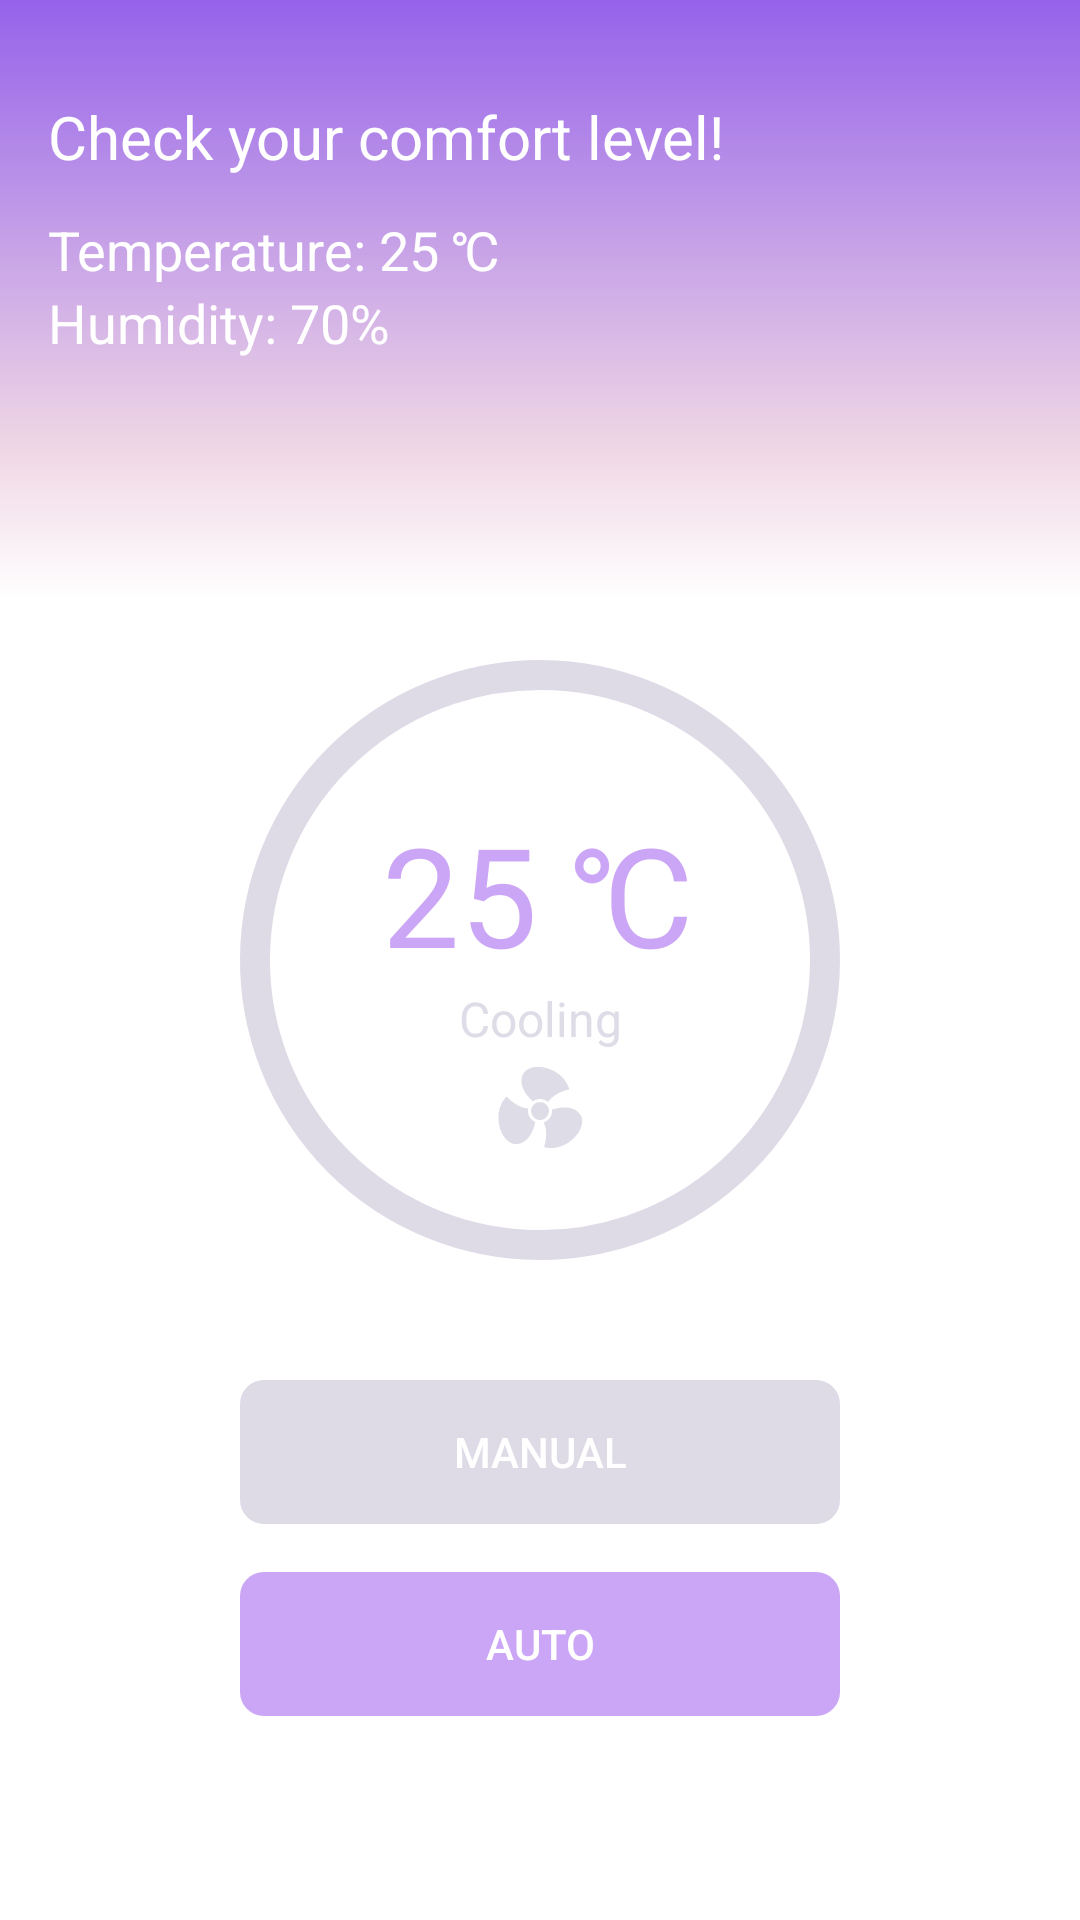

Icon click points for this 1080px x 1920px phone screenshot, format [x,y]:
fan: [540,1107]
